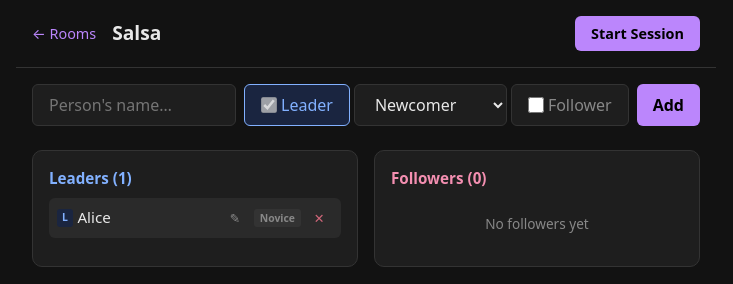
Room page › person rename › renames a person via pencil button then Enter
The image size is (733, 284).
Click the button named "rename person" at (236,218), box [222,204,250,232]
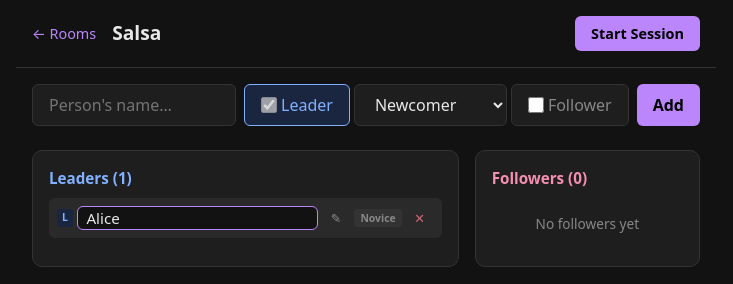
Replace the text in the field showing "Alice" with "Alicia" at (198,218), box [77,206,318,230]
Then press Enter
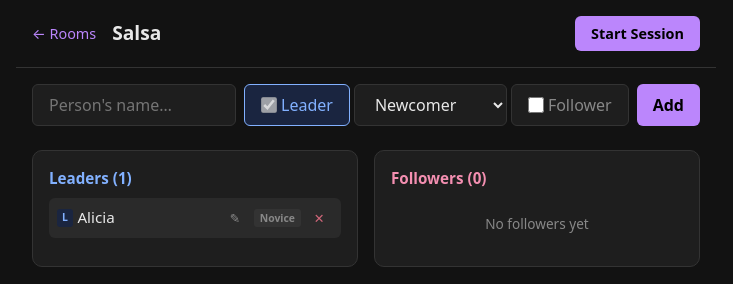
Expected: the text "Alice" is not shown
Expected: the text "Alicia" is shown, [77,207,115,227]
